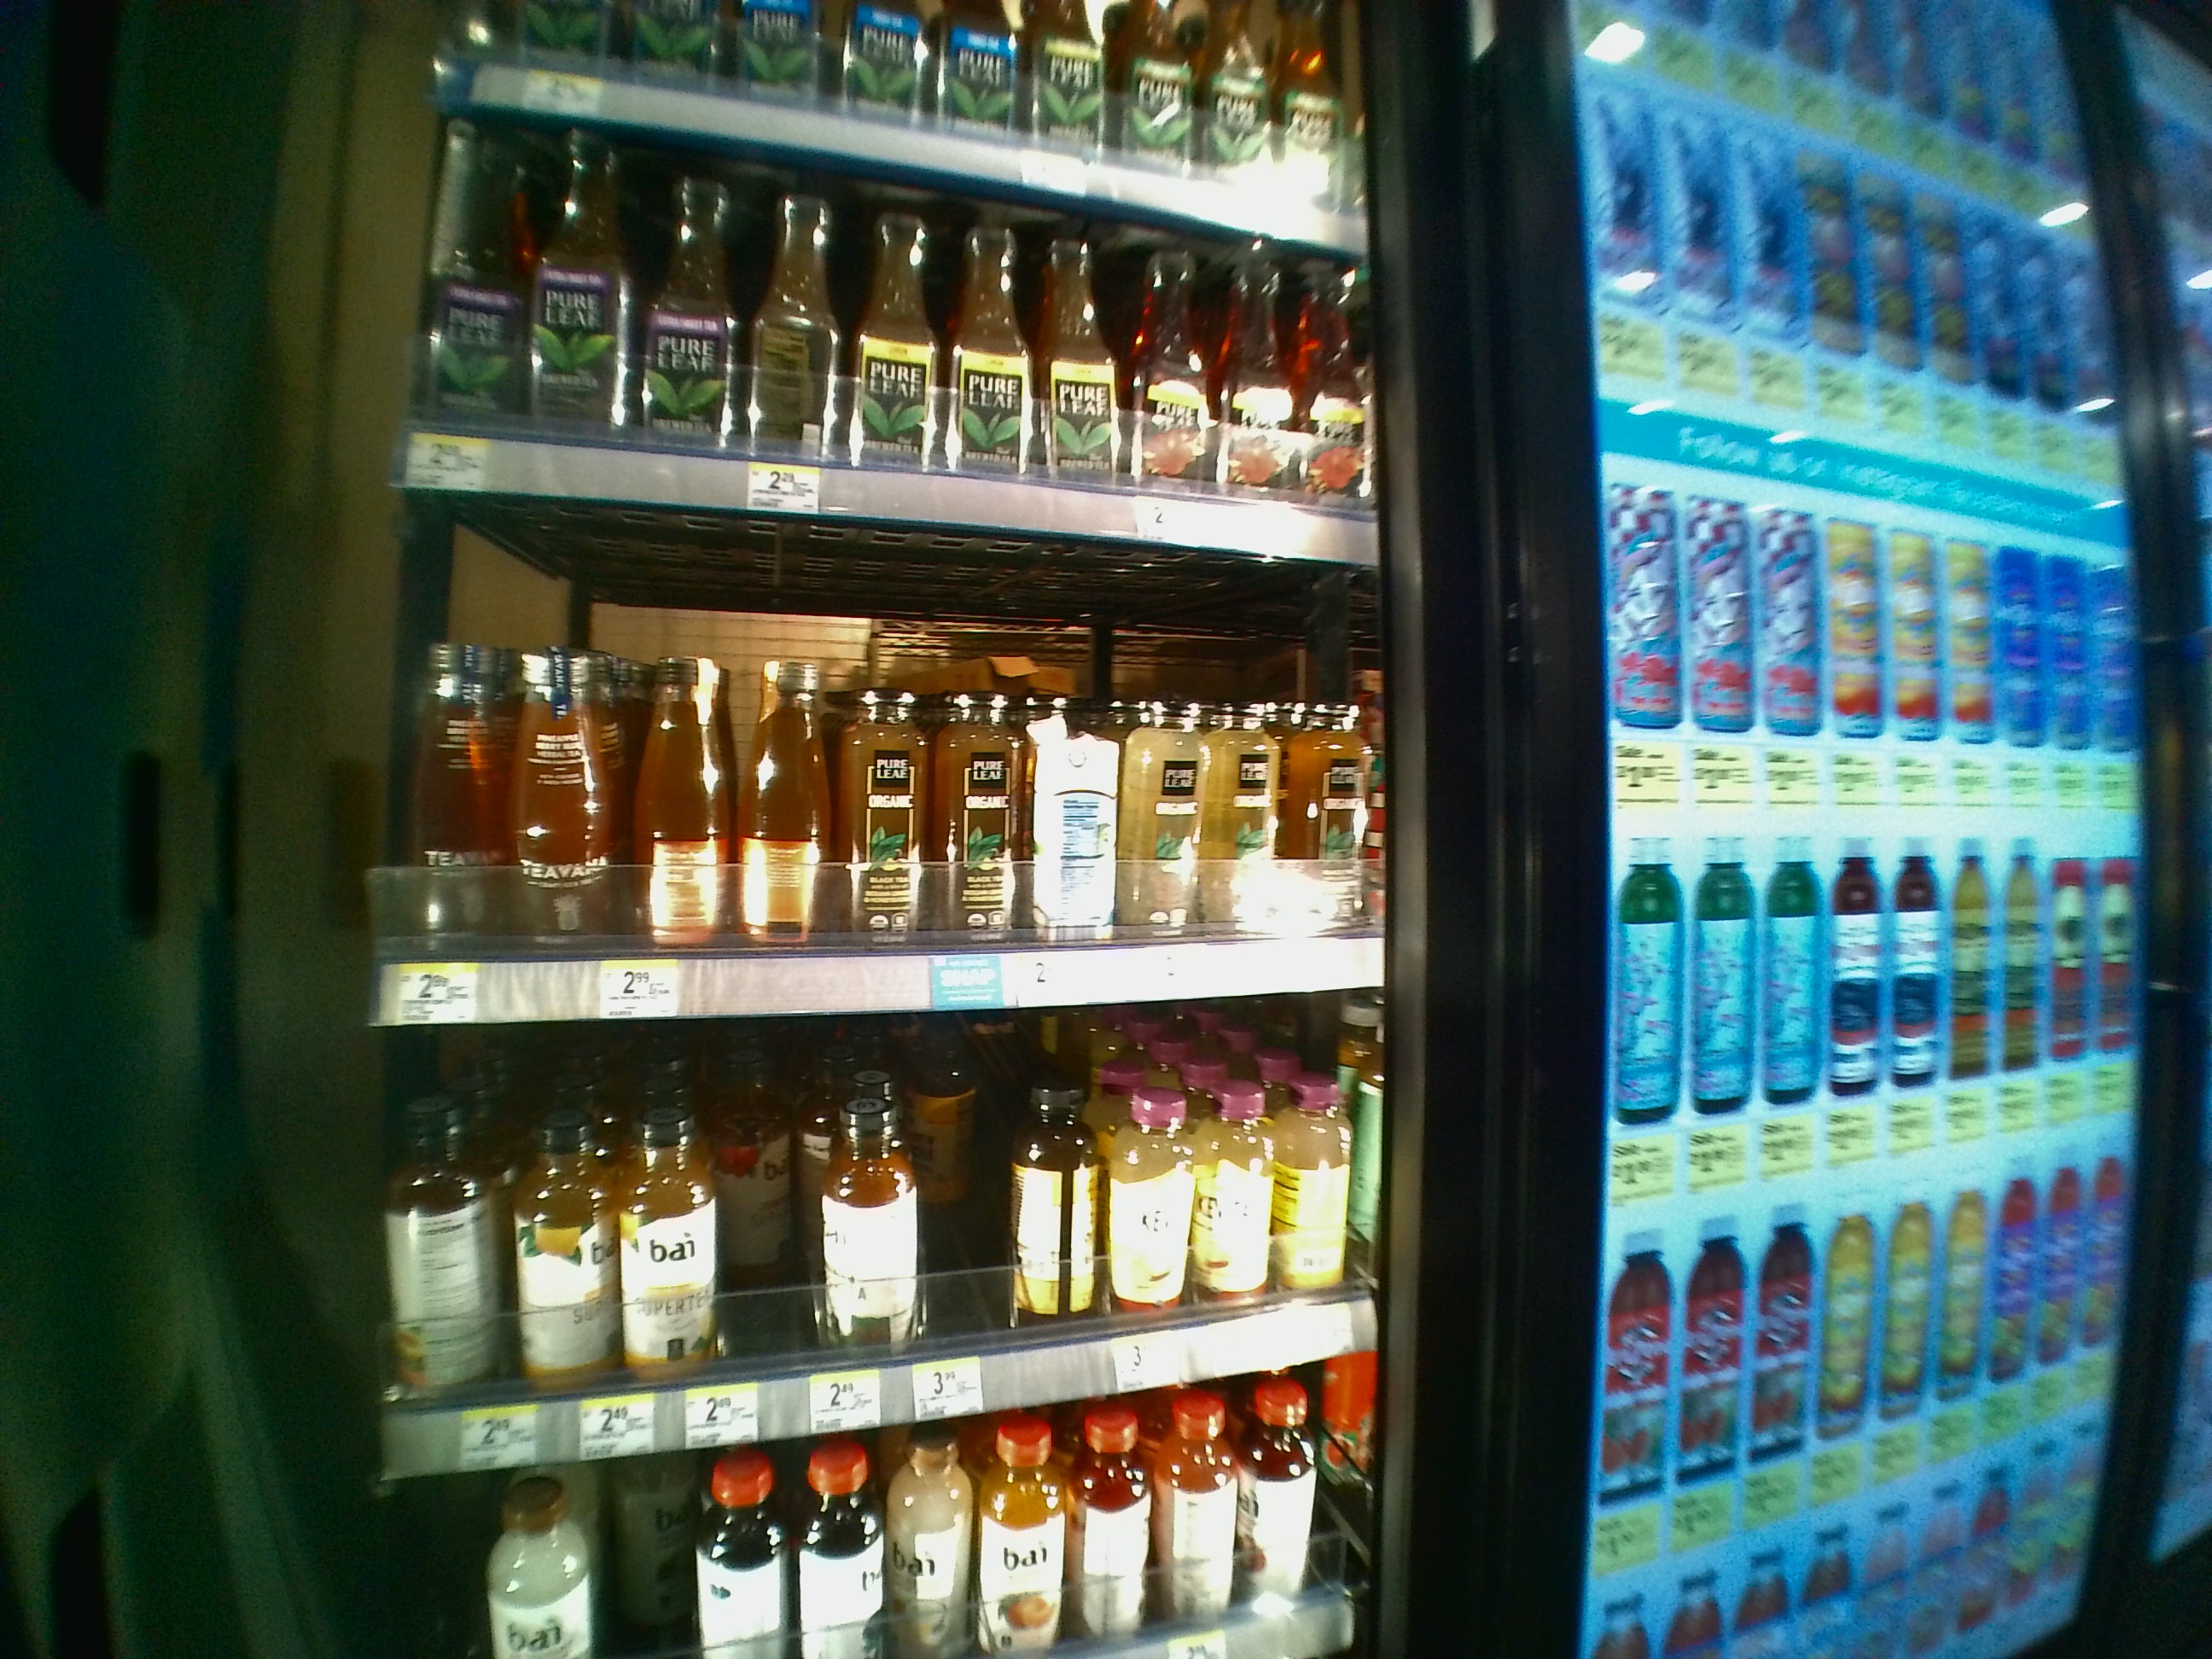shelf: (366, 507, 1385, 1018), (371, 1030, 1390, 1480), (399, 112, 1383, 495)
